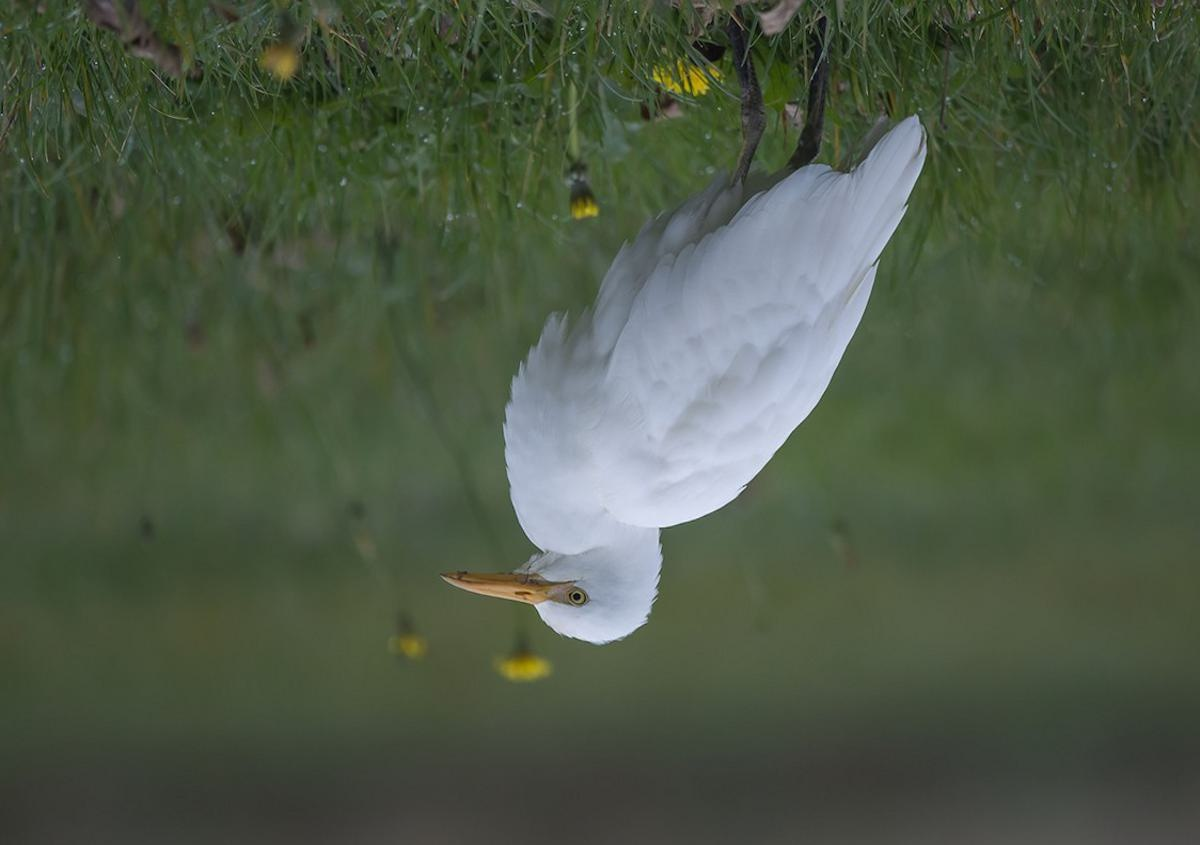egret: (429, 78, 947, 662)
